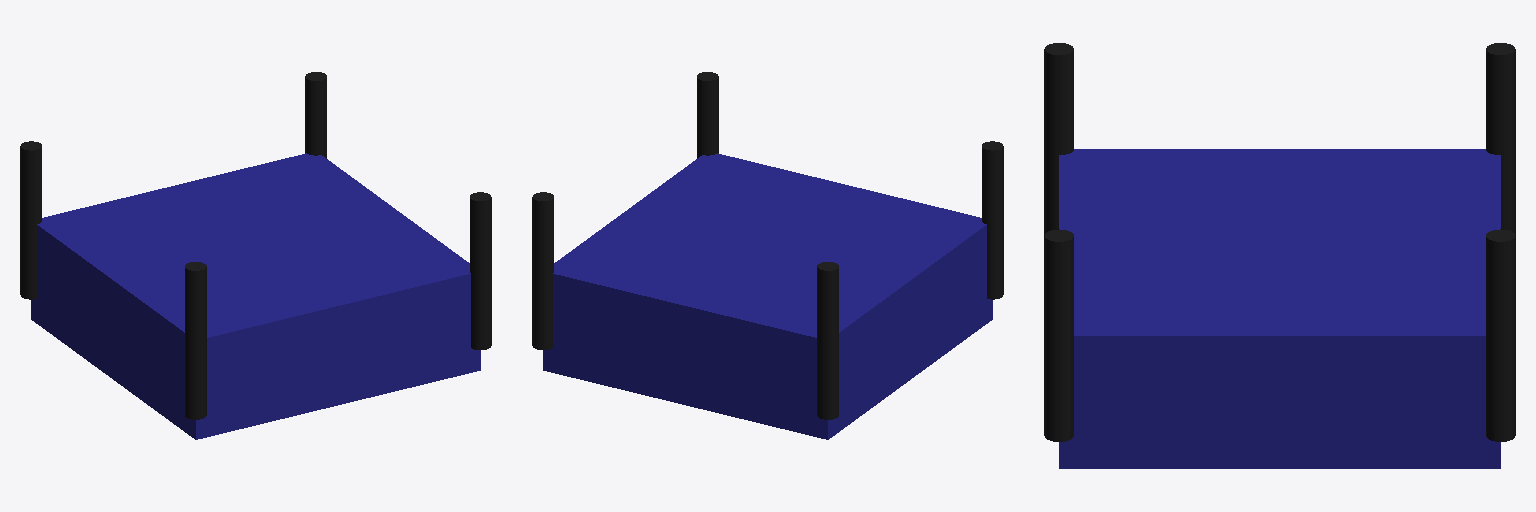
The robot description file, URDF, robot "utp_a":
<?xml version="1.0" ?>
<!-- =================================================================================== -->
<!-- |    This document was autogenerated by xacro from urdf/utp_a.urdf.xacro          | -->
<!-- |    EDITING THIS FILE BY HAND IS NOT RECOMMENDED                                 | -->
<!-- =================================================================================== -->
<robot name="utp_a">
  <!-- UTP-A Base (Aerial Platform) -->
  <!-- This xacro serves as fallback URDF base; runtime URDF is assembled by urdf_composer.py -->
  <!-- Base link -->
  <link name="base_link">
    <visual>
      <geometry>
        <box size="0.3 0.3 0.1"/>
      </geometry>
      <material name="blue">
        <color rgba="0.2 0.2 0.6 1.0"/>
      </material>
    </visual>
    <collision>
      <geometry>
        <box size="0.3 0.3 0.1"/>
      </geometry>
    </collision>
    <inertial>
      <mass value="3.0"/>
      <inertia ixx="0.03" ixy="0" ixz="0" iyy="0.03" iyz="0" izz="0.05"/>
    </inertial>
  </link>
  <link name="arm_fl_link">
    <visual>
      <geometry>
        <cylinder length="0.15" radius="0.01"/>
      </geometry>
      <material name="dark">
        <color rgba="0.15 0.15 0.15 1.0"/>
      </material>
    </visual>
    <inertial>
      <mass value="0.1"/>
      <inertia ixx="0.0001" ixy="0" ixz="0" iyy="0.0001" iyz="0" izz="0.0001"/>
    </inertial>
  </link>
  <joint name="arm_fl_joint" type="fixed">
    <parent link="base_link"/>
    <child link="arm_fl_link"/>
    <origin xyz="0.15 0.15 0.05"/>
  </joint>
  <link name="arm_fr_link">
    <visual>
      <geometry>
        <cylinder length="0.15" radius="0.01"/>
      </geometry>
      <material name="dark">
        <color rgba="0.15 0.15 0.15 1.0"/>
      </material>
    </visual>
    <inertial>
      <mass value="0.1"/>
      <inertia ixx="0.0001" ixy="0" ixz="0" iyy="0.0001" iyz="0" izz="0.0001"/>
    </inertial>
  </link>
  <joint name="arm_fr_joint" type="fixed">
    <parent link="base_link"/>
    <child link="arm_fr_link"/>
    <origin xyz="0.15 -0.15 0.05"/>
  </joint>
  <link name="arm_rl_link">
    <visual>
      <geometry>
        <cylinder length="0.15" radius="0.01"/>
      </geometry>
      <material name="dark">
        <color rgba="0.15 0.15 0.15 1.0"/>
      </material>
    </visual>
    <inertial>
      <mass value="0.1"/>
      <inertia ixx="0.0001" ixy="0" ixz="0" iyy="0.0001" iyz="0" izz="0.0001"/>
    </inertial>
  </link>
  <joint name="arm_rl_joint" type="fixed">
    <parent link="base_link"/>
    <child link="arm_rl_link"/>
    <origin xyz="-0.15 0.15 0.05"/>
  </joint>
  <link name="arm_rr_link">
    <visual>
      <geometry>
        <cylinder length="0.15" radius="0.01"/>
      </geometry>
      <material name="dark">
        <color rgba="0.15 0.15 0.15 1.0"/>
      </material>
    </visual>
    <inertial>
      <mass value="0.1"/>
      <inertia ixx="0.0001" ixy="0" ixz="0" iyy="0.0001" iyz="0" izz="0.0001"/>
    </inertial>
  </link>
  <joint name="arm_rr_joint" type="fixed">
    <parent link="base_link"/>
    <child link="arm_rr_link"/>
    <origin xyz="-0.15 -0.15 0.05"/>
  </joint>
  <!-- Gimbal slot (bottom center; equipment added by urdf_composer) -->
  <!-- gimbal_slot: 0, 0, -0.06 -->
</robot>

--- Facts derived from the render (not from the file) ---
3 views of the same robot in one strip: view 1: azimuth 30°, elevation 25°; view 2: azimuth 150°, elevation 25°; view 3: azimuth 270°, elevation 25° (orthographic).
Robot: utp_a — 5 links, 4 joints (4 fixed); root link base_link; default pose: all joints at 0.
Links seen in each view (by area): view 1: base_link, arm_rr_link, arm_fr_link, arm_rl_link, arm_fl_link; view 2: base_link, arm_rl_link, arm_fl_link, arm_rr_link, arm_fr_link; view 3: base_link, arm_fl_link, arm_fr_link, arm_rl_link, arm_rr_link.
Boxes of the visible links, x1=… form: base_link: x1=31, y1=153, x2=480, y2=439; arm_rr_link: x1=185, y1=262, x2=206, y2=419; arm_fr_link: x1=470, y1=192, x2=491, y2=349; arm_rl_link: x1=20, y1=141, x2=41, y2=299; arm_fl_link: x1=305, y1=72, x2=326, y2=158; base_link: x1=543, y1=153, x2=992, y2=439; arm_rl_link: x1=817, y1=262, x2=838, y2=419; arm_fl_link: x1=532, y1=192, x2=553, y2=349; arm_rr_link: x1=982, y1=141, x2=1003, y2=299; arm_fr_link: x1=697, y1=72, x2=718, y2=158; base_link: x1=1059, y1=149, x2=1500, y2=468; arm_fl_link: x1=1486, y1=229, x2=1515, y2=441; arm_fr_link: x1=1044, y1=229, x2=1073, y2=441; arm_rl_link: x1=1486, y1=43, x2=1515, y2=235; arm_rr_link: x1=1044, y1=43, x2=1073, y2=235.
Size in the robot's own frame: 0.32 by 0.32 by 0.175 metres.
Geometry: primitives only (box / cylinder / sphere), no mesh files.
